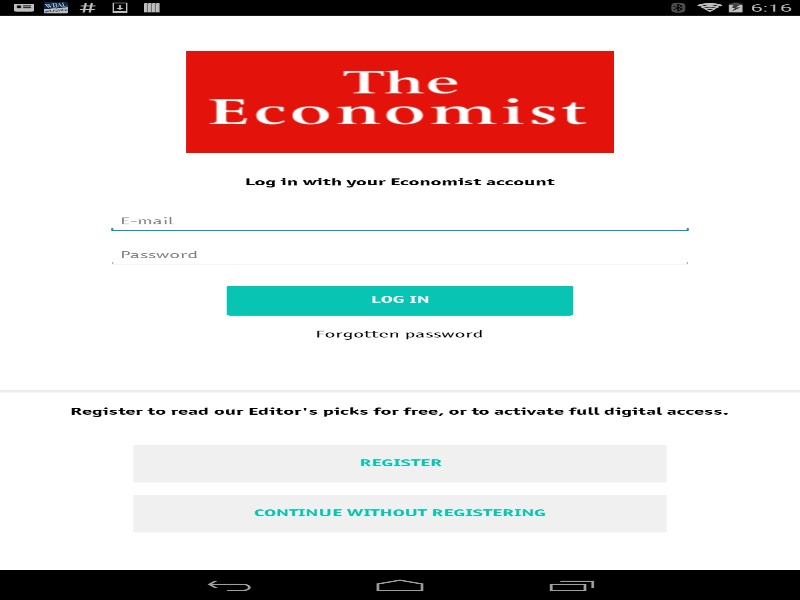Button: (133, 445, 666, 482), (133, 495, 666, 532), (226, 285, 573, 315)
Input: (106, 199, 693, 233), (106, 233, 693, 266)
